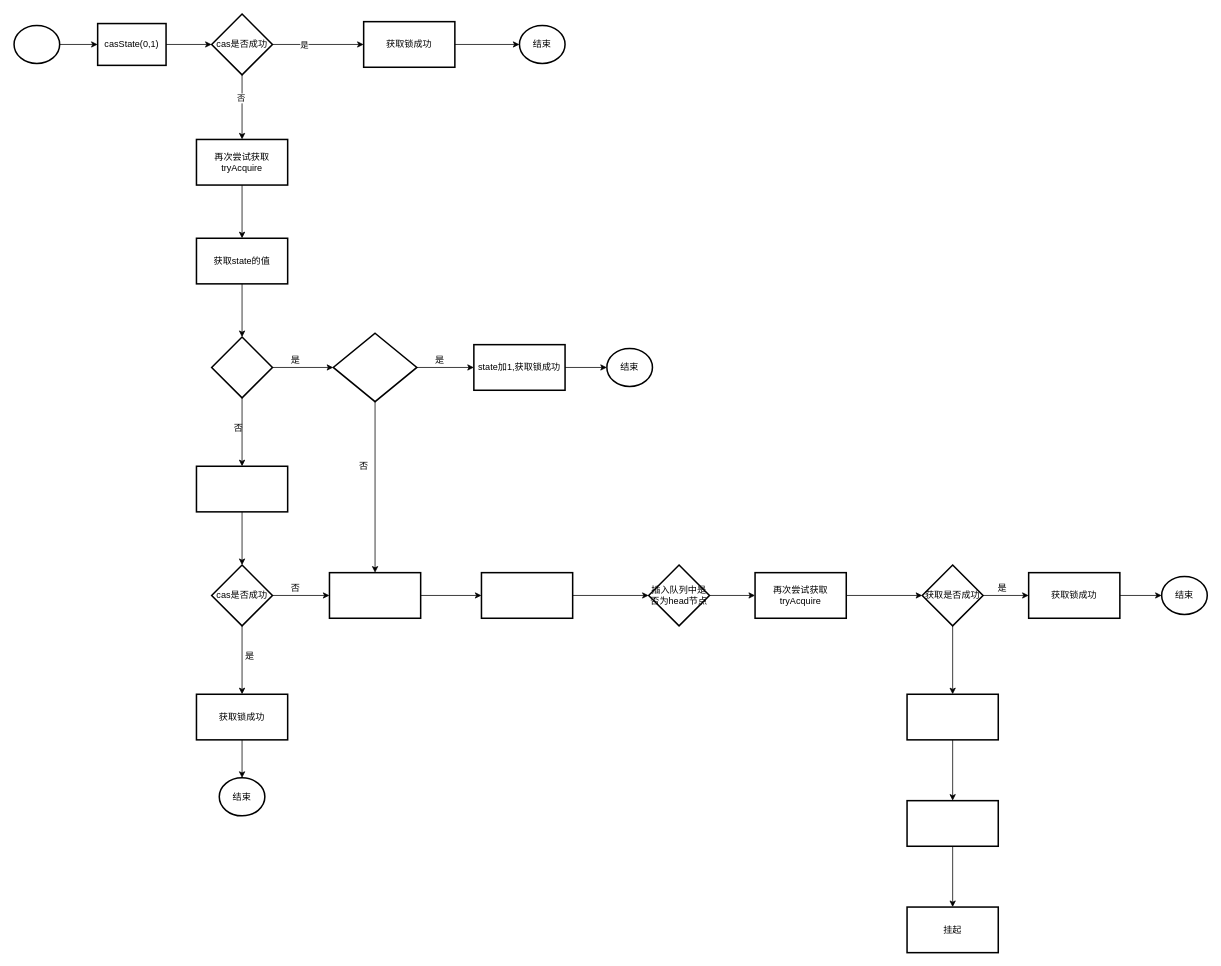
The diagram is 1221 pixels wide and 966 high, and some of its shapes have lost their labels. The centre of each missing label's shape, as x and y in pixels:
"shouldParkAfterFailedAcquire" goes at point 952,716.
"state cas(0,1)" goes at point 241,488.
"state=0？" goes at point 242,367.
"创建一个Node.EXCLUSIVE的节点" goes at point 526,595.
"判断占有此锁的线程是否为当前线程" goes at point 374,367.
"开始" goes at point 36,44.
"获取锁失败" goes at point 374,595.
"设置前驱节点waitstatus为signal" goes at point 952,823.
